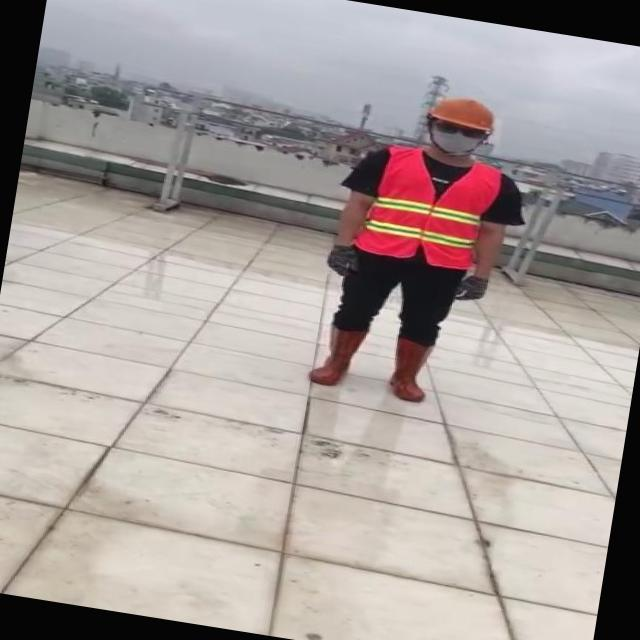boots: (304, 321, 370, 390), (384, 337, 438, 405)
gloves: (452, 270, 495, 308), (324, 236, 361, 276)
helmet: (426, 90, 504, 134)
vest: (354, 143, 506, 275)
